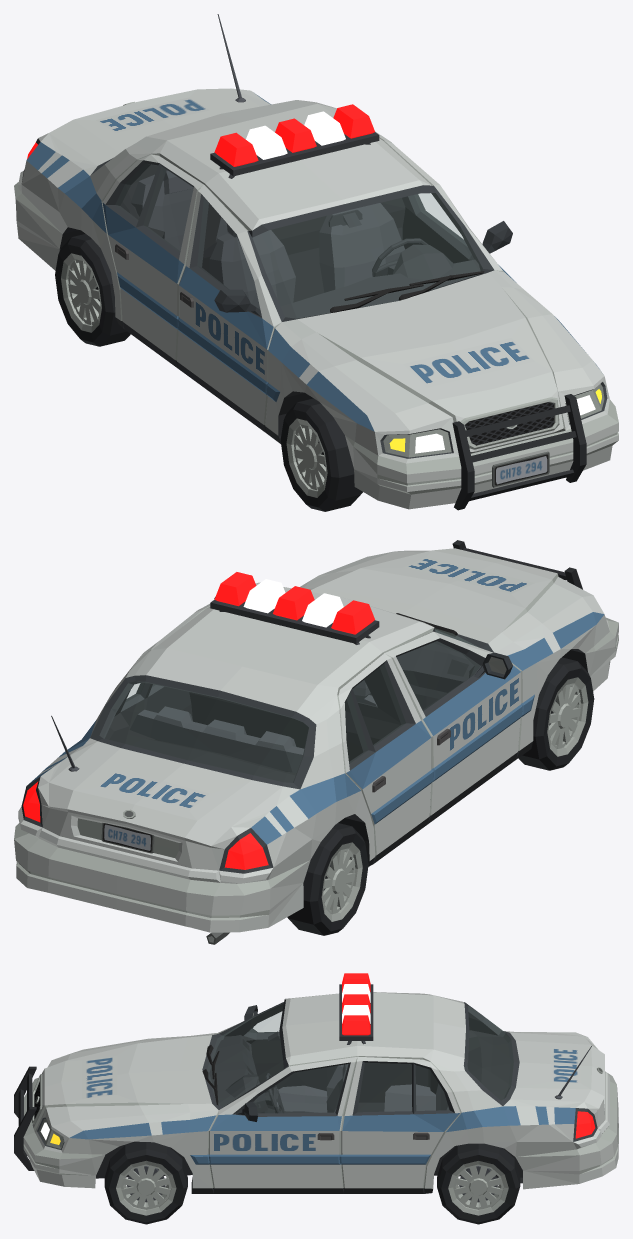
File: SM_Veh_Car_Police_01.fbx
3 renders of one model, top to bottom at view 1: azimuth 30°, elevation 25°; view 2: azimuth 150°, elevation 25°; view 3: azimuth 270°, elevation 25°, orthographic. The views are drawn at different scales.
Parts seen in each view (by area): view 1: SM_Veh_Car_Police_01, SM_Veh_Car_Police_Glass, SM_Veh_Car_Police_Wheel_fr, SM_Veh_Car_Police_Wheel_rr, SM_Veh_Car_Police_Plates; view 2: SM_Veh_Car_Police_01, SM_Veh_Car_Police_Glass, SM_Veh_Car_Police_Wheel_rr, SM_Veh_Car_Police_Wheel_fr, SM_Veh_Car_Police_Plates; view 3: SM_Veh_Car_Police_01, SM_Veh_Car_Police_Glass, SM_Veh_Car_Police_Wheel_fl, SM_Veh_Car_Police_Wheel_rl, SM_Veh_Car_Police_SteeringW.
Part boxes in pixels (x1,y1,x2,y2): SM_Veh_Car_Police_01: [14, 14, 618, 510]; SM_Veh_Car_Police_Glass: [116, 164, 482, 317]; SM_Veh_Car_Police_Wheel_fr: [280, 398, 362, 511]; SM_Veh_Car_Police_Wheel_rr: [55, 234, 130, 346]; SM_Veh_Car_Police_Plates: [492, 451, 549, 487]; SM_Veh_Car_Police_01: [14, 540, 618, 944]; SM_Veh_Car_Police_Glass: [100, 628, 479, 782]; SM_Veh_Car_Police_Wheel_rr: [287, 823, 368, 935]; SM_Veh_Car_Police_Wheel_fr: [518, 657, 594, 770]; SM_Veh_Car_Police_Plates: [101, 823, 154, 853]; SM_Veh_Car_Police_01: [14, 973, 618, 1193]; SM_Veh_Car_Police_Glass: [207, 1004, 513, 1112]; SM_Veh_Car_Police_Wheel_fl: [104, 1141, 187, 1224]; SM_Veh_Car_Police_Wheel_rl: [437, 1143, 520, 1224]; SM_Veh_Car_Police_SteeringW: [263, 1073, 284, 1113].
Size of the model in its own units: 217 by 174 by 525.
